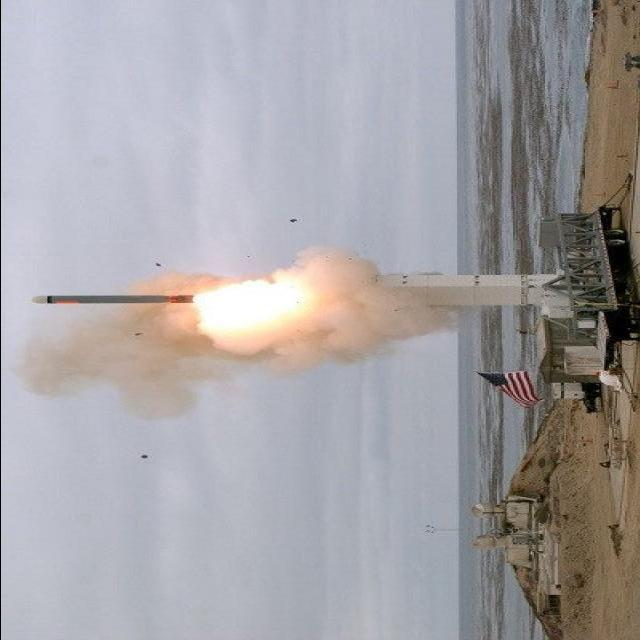Missile: (27, 292, 199, 308)
